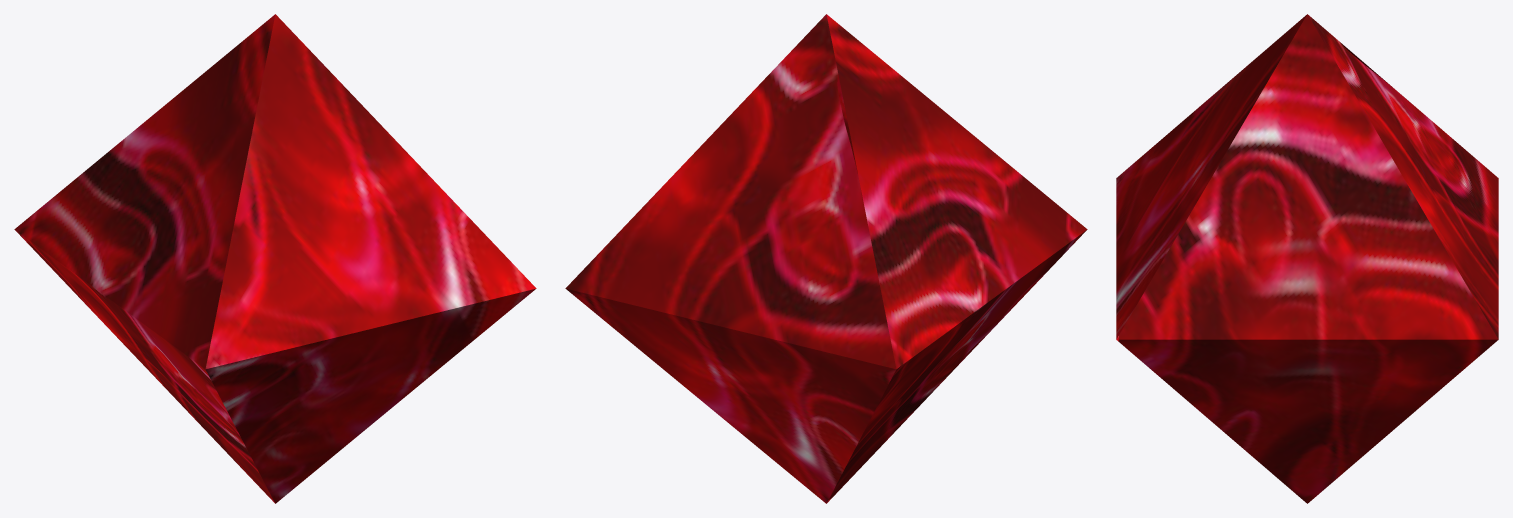
The model's file is Diamond.FBX.
3 views of the same model, side by side, from view 1: azimuth 30°, elevation 25°; view 2: azimuth 150°, elevation 25°; view 3: azimuth 270°, elevation 25° (orthographic).
Visible parts, largest first — view 1: Hedra01; view 2: Hedra01; view 3: Hedra01.
Boxes of the visible parts, x1=… form: Hedra01: x1=14, y1=14, x2=536, y2=503; Hedra01: x1=565, y1=14, x2=1087, y2=503; Hedra01: x1=1116, y1=14, x2=1498, y2=503.
Bounding box in the file's own units: 29.7 × 42.01 × 29.7.
Materials: 1 (1 with a texture image).
